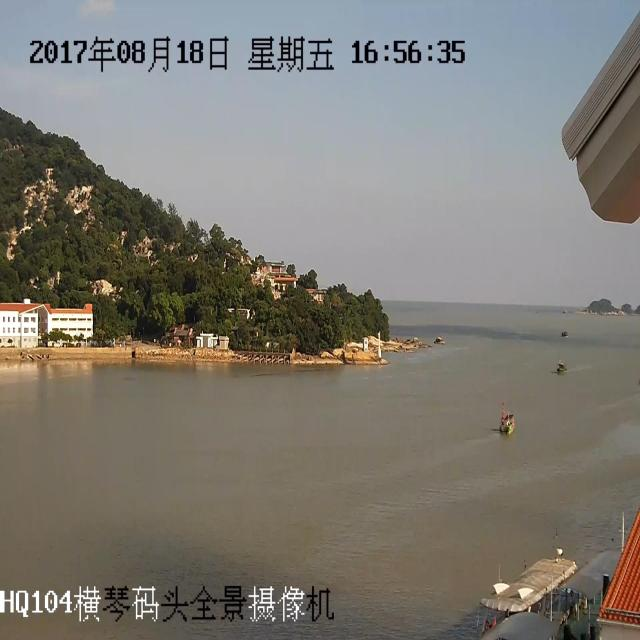fishing boat: (485, 396, 519, 444), (546, 350, 568, 385), (557, 319, 570, 353)
